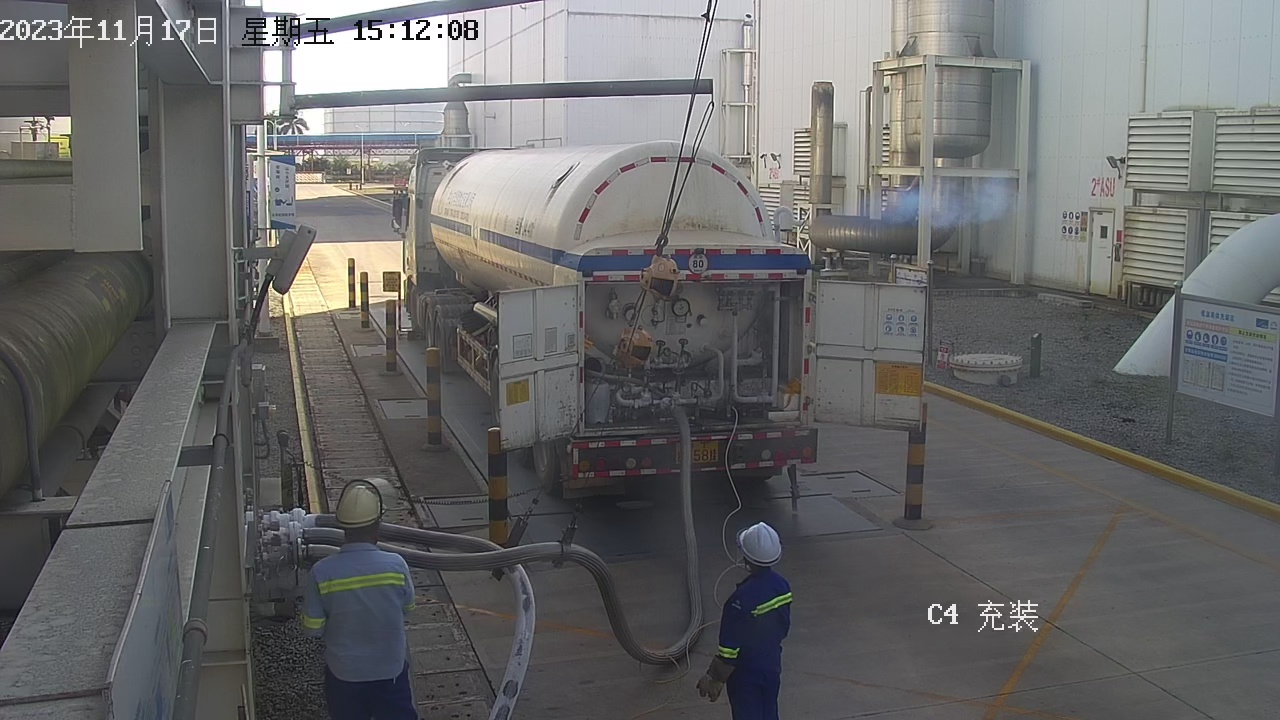Head_with_Helmet: (312, 465, 407, 544), (717, 512, 808, 582)
Uniform: (288, 530, 453, 720), (702, 562, 827, 720)
